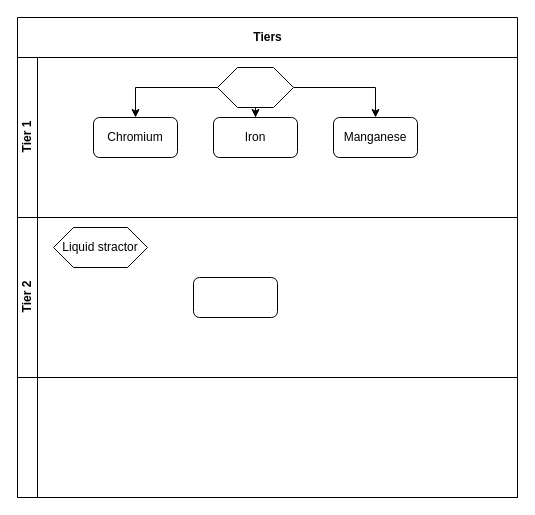
This 535x515 diagram has some shape labels left out. Each missing label, with the centre of its shape:
Basic drill: the point at 255,87
Tier 3: the point at 267,437
Vanadium: the point at 235,297
